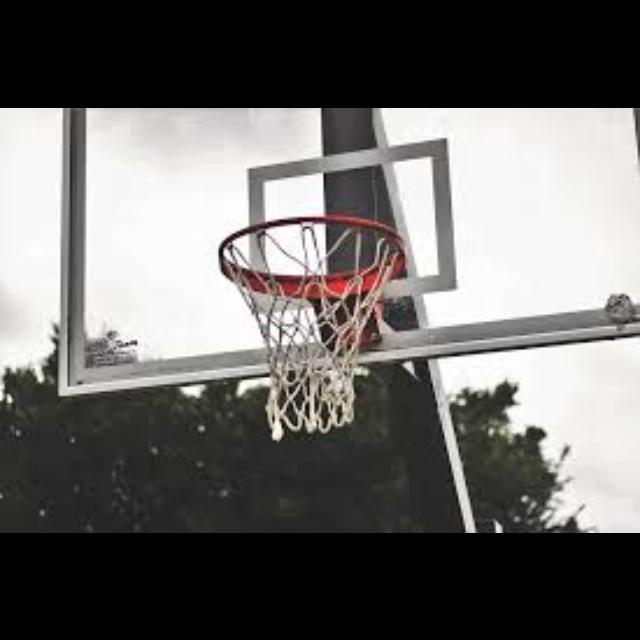rim: (218, 215, 406, 433)
